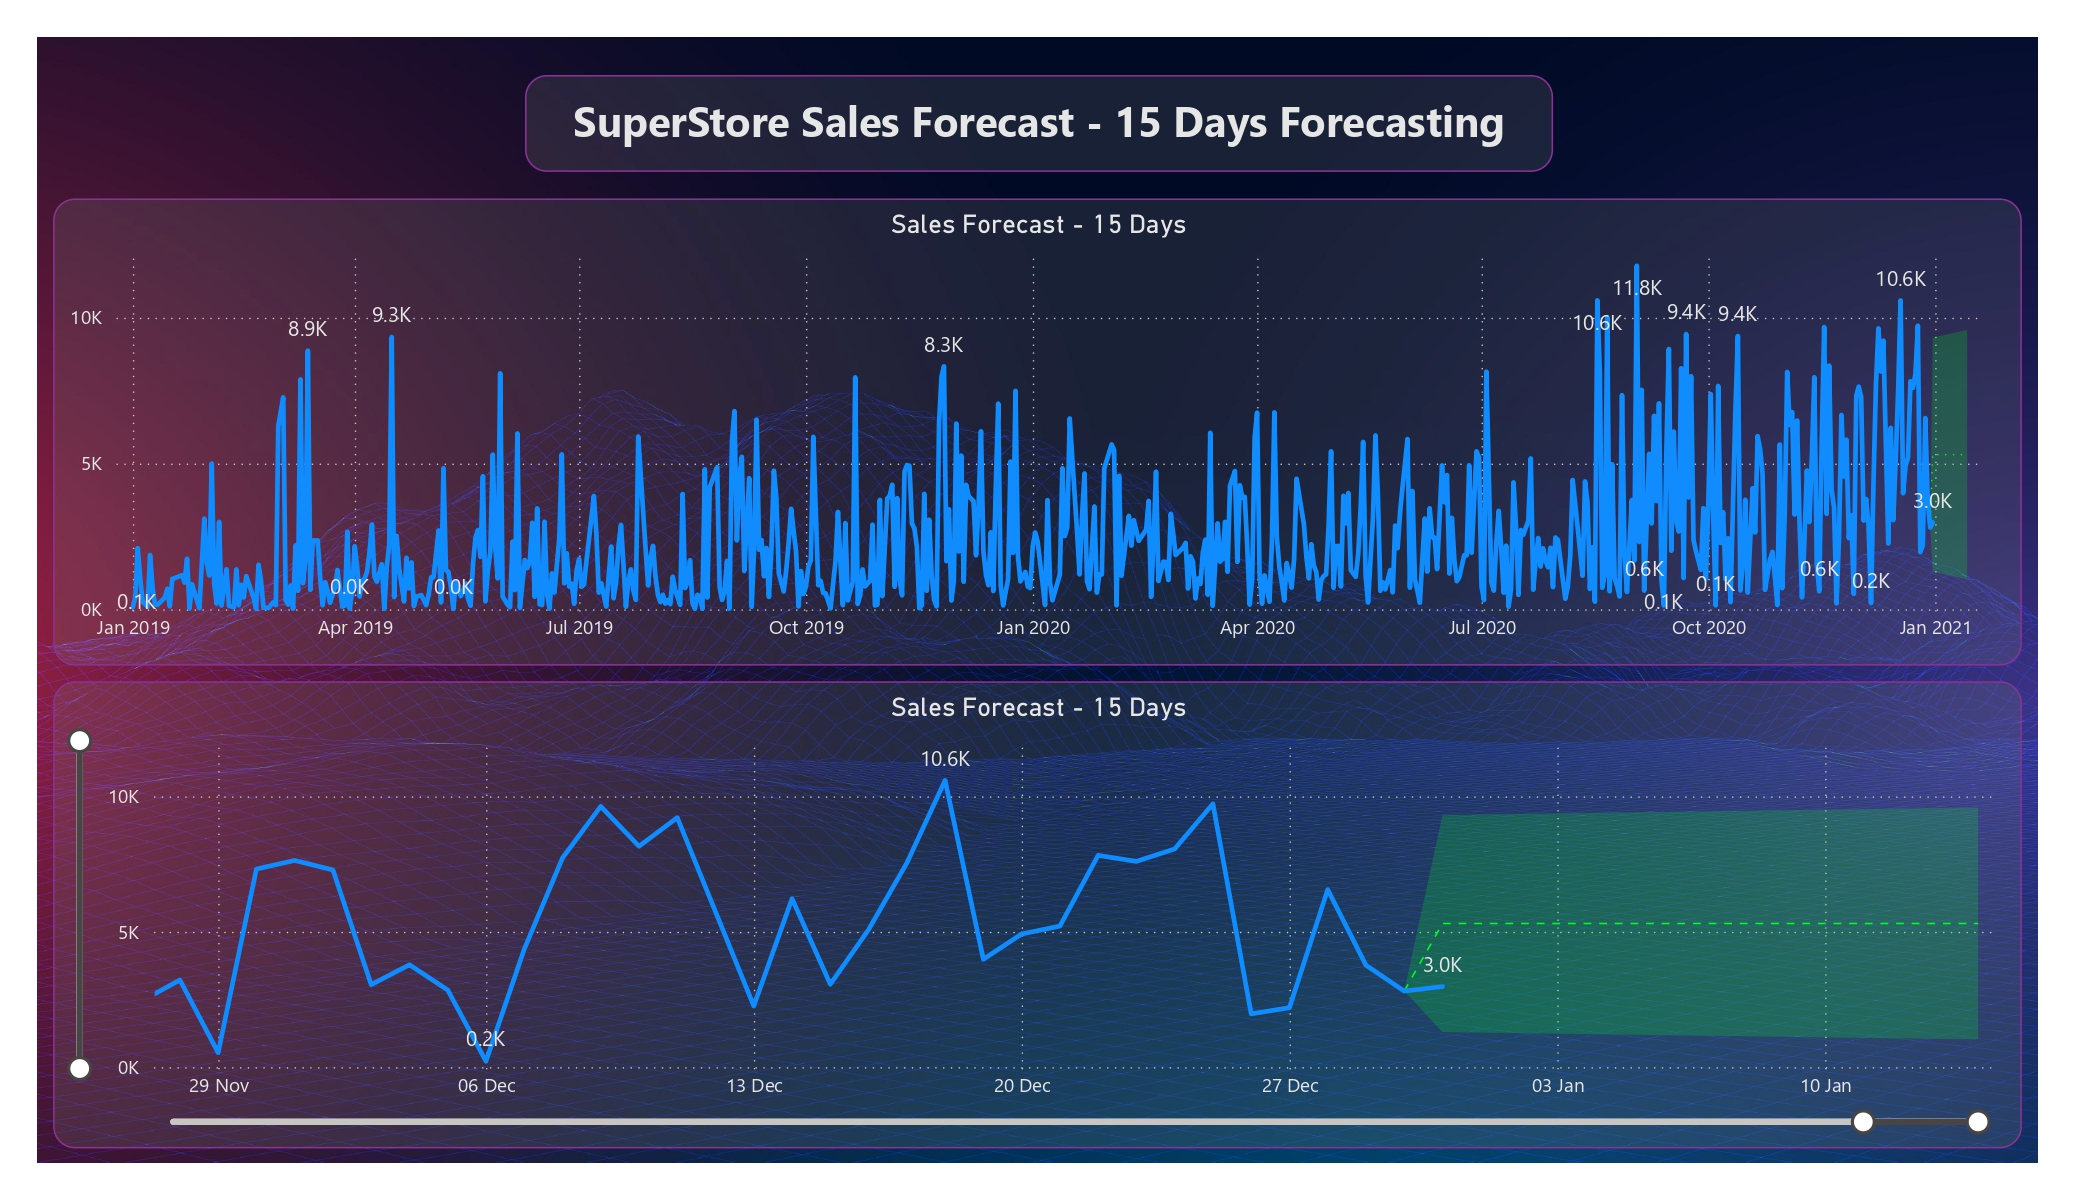

Layout of this report page (visuals, bound fields, positions):
{"tool":"powerbi","page":{"name":"Forecasting","canvas":[1280,720],"ordinal":1},"visuals":[{"type":"lineChart","title":"Sales Forecast - 15 Days","fields":{"Y":["Sum(SuperStore_Sales_Dataset.Sales)"],"Category":["SuperStore_Sales_Dataset.Order Date.Variation.Date Hierarchy.Year","SuperStore_Sales_Dataset.Order Date.Variation.Date Hierarchy.Quarter","SuperStore_Sales_Dataset.Order Date.Variation.Date Hierarchy.Month","SuperStore_Sales_Dataset.Order Date.Variation.Date Hierarchy.Day"]},"box":[10.4,102.6,1259.8,299],"z":0},{"type":"lineChart","title":"Sales Forecast - 15 Days","fields":{"Y":["Sum(SuperStore_Sales_Dataset.Sales)"],"Category":["SuperStore_Sales_Dataset.Order Date.Variation.Date Hierarchy.Year","SuperStore_Sales_Dataset.Order Date.Variation.Date Hierarchy.Quarter","SuperStore_Sales_Dataset.Order Date.Variation.Date Hierarchy.Month","SuperStore_Sales_Dataset.Order Date.Variation.Date Hierarchy.Day"]},"box":[10.4,412,1259.8,299],"z":1000},{"type":"textbox","box":[312.4,23.8,657.4,62.5],"z":2000}]}

Visuals, with their boxes in screenshot pixels (x1, y1, x2, y2):
"Sales Forecast - 15 Days" lineChart: BBox(54, 198, 2022, 665)
"Sales Forecast - 15 Days" lineChart: BBox(54, 681, 2022, 1148)
textbox: BBox(526, 75, 1553, 172)
